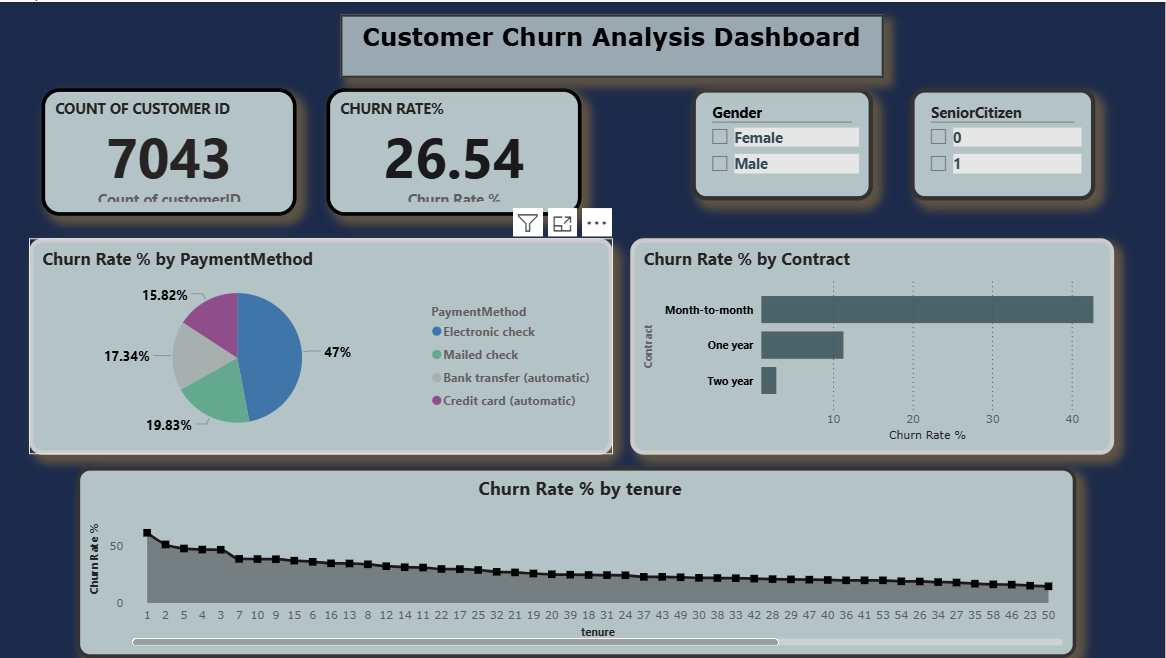

The page's visual inventory and layout, read from the dashboard file:
{"tool":"powerbi","page":{"name":"Page 1","canvas":[1280,720],"ordinal":0},"visuals":[{"type":"card","title":"COUNT OF CUSTOMER ID","fields":{"Values":["CountNonNull(WA_Fn-UseC_-Telco-Customer-Churn (2).customerID)"]},"box":[46.7,94.7,279.9,140],"z":0},{"type":"card","title":"CHURN RATE%","fields":{"Values":["WA_Fn-UseC_-Telco-Customer-Churn (2).Churn Rate %"]},"box":[359.5,94.7,279.9,140],"z":1000},{"type":"clusteredBarChart","fields":{"Category":["WA_Fn-UseC_-Telco-Customer-Churn (2).Contract"],"Y":["WA_Fn-UseC_-Telco-Customer-Churn (2).Churn Rate %"]},"box":[693,259.3,531,237.4],"z":2000},{"type":"pieChart","fields":{"Category":["WA_Fn-UseC_-Telco-Customer-Churn (2).PaymentMethod"],"Y":["WA_Fn-UseC_-Telco-Customer-Churn (2).Churn Rate %"]},"box":[32.9,259.3,640.8,237.4],"z":3000},{"type":"lineChart","fields":{"Category":["WA_Fn-UseC_-Telco-Customer-Churn (2).tenure"],"Y":["WA_Fn-UseC_-Telco-Customer-Churn (2).Churn Rate %"]},"box":[85.1,510.5,1097.8,209.9],"z":4000},{"type":"slicer","fields":{"Values":["WA_Fn-UseC_-Telco-Customer-Churn (2).gender"]},"box":[760.2,94.7,199,123.5],"z":5000},{"type":"slicer","fields":{"Values":["WA_Fn-UseC_-Telco-Customer-Churn (2).SeniorCitizen"]},"box":[1000.3,94.7,203.1,123.5],"z":6000},{"type":"textbox","box":[374.6,13.7,596.9,70],"z":8000}]}

Visuals, with their boxes in screenshot pixels (x1, y1, x2, y2), scaled from the page's 1280x720 canvas onto the 1166x658 screenshot:
"COUNT OF CUSTOMER ID" card: 43:87:298:214
"CHURN RATE%" card: 327:87:582:214
clusteredBarChart - WA_Fn-UseC_-Telco-Customer-Churn (2).Contract x WA_Fn-UseC_-Telco-Customer-Churn (2).Churn Rate %: 631:237:1115:454
pieChart - WA_Fn-UseC_-Telco-Customer-Churn (2).PaymentMethod x WA_Fn-UseC_-Telco-Customer-Churn (2).Churn Rate %: 30:237:614:454
lineChart - WA_Fn-UseC_-Telco-Customer-Churn (2).tenure x WA_Fn-UseC_-Telco-Customer-Churn (2).Churn Rate %: 78:467:1078:657
slicer - WA_Fn-UseC_-Telco-Customer-Churn (2).gender: 692:87:874:199
slicer - WA_Fn-UseC_-Telco-Customer-Churn (2).SeniorCitizen: 911:87:1096:199
textbox: 341:13:885:76
